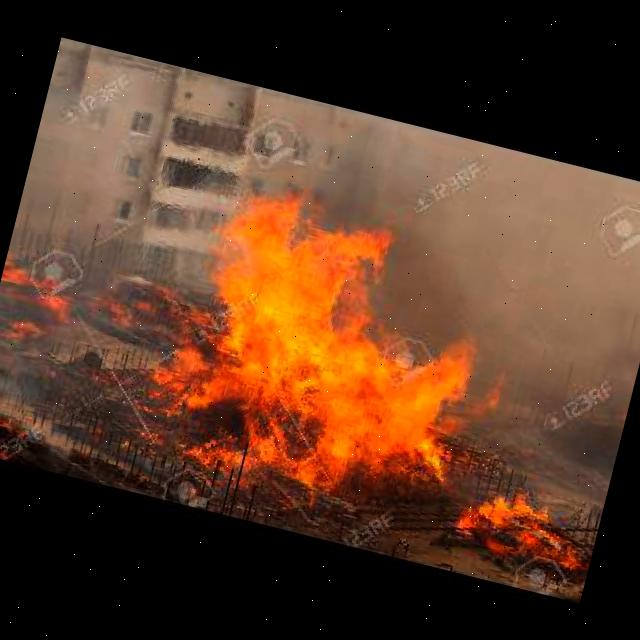fire: (143, 158, 509, 532), (444, 478, 600, 592), (0, 394, 20, 458)
